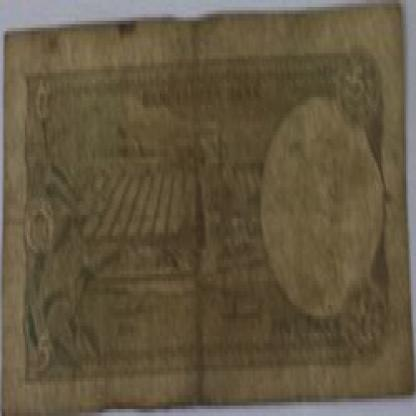Five Taka: (27, 69, 58, 142), (28, 329, 62, 392), (341, 52, 371, 114), (351, 291, 378, 357)
